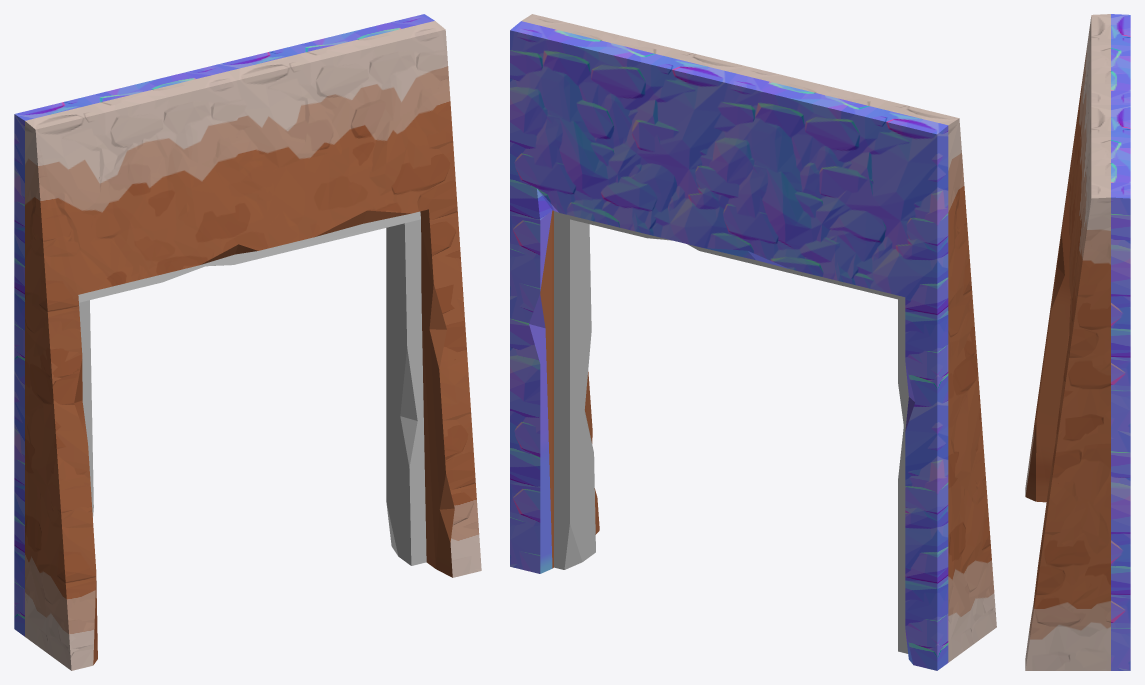
File: SM_Bld_Wall_Top_Door_Double_01.fbx
The picture shows the model from 3 angles, left to right: view 1: azimuth 30°, elevation 25°; view 2: azimuth 150°, elevation 25°; view 3: azimuth 270°, elevation 25°; orthographic projection. The views are drawn at different scales.
Visible parts, largest first — view 1: SM_Bld_Wall_Top_Door_Double_01; view 2: SM_Bld_Wall_Top_Door_Double_01; view 3: SM_Bld_Wall_Top_Door_Double_01.
Part boxes in pixels (x1,y1,x2,y2): SM_Bld_Wall_Top_Door_Double_01: (14, 14, 481, 670); SM_Bld_Wall_Top_Door_Double_01: (510, 14, 996, 670); SM_Bld_Wall_Top_Door_Double_01: (1025, 14, 1130, 670).
Bounding box in the file's own units: 250 × 301 × 60.45.
